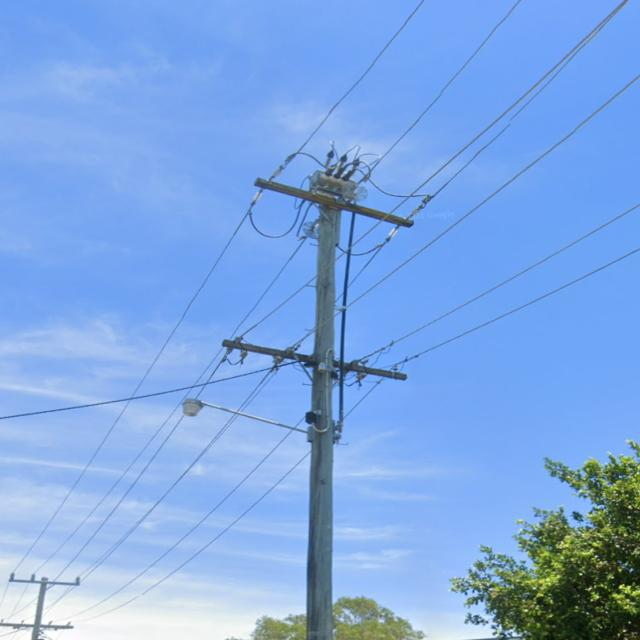HV-switch: (308, 147, 362, 203)
HV-transmission: (250, 148, 432, 238), (0, 572, 83, 632)
LV link: (220, 348, 249, 366), (338, 371, 368, 387)
crossarm: (254, 178, 415, 229), (221, 339, 408, 382), (9, 572, 79, 587), (0, 622, 73, 630)
streetlight: (182, 398, 310, 434)
timber-pole: (307, 203, 342, 639), (30, 575, 49, 640)
